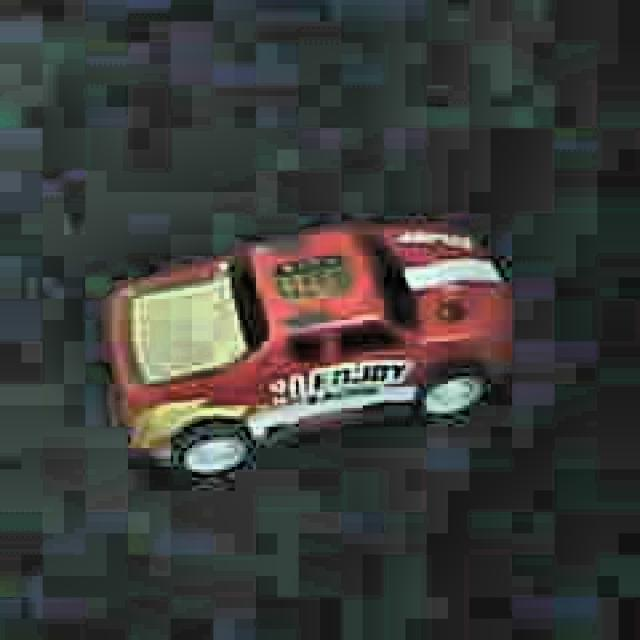car: (103, 215, 518, 478)
